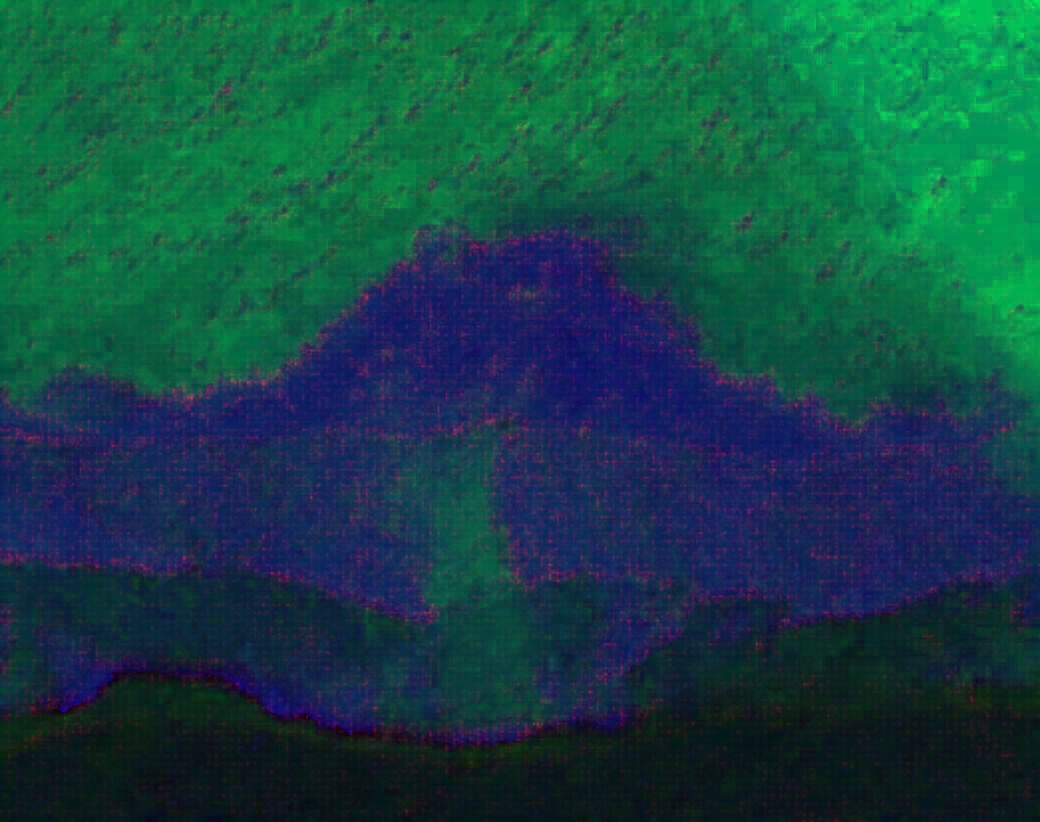rip_current: (350, 223, 602, 726)
